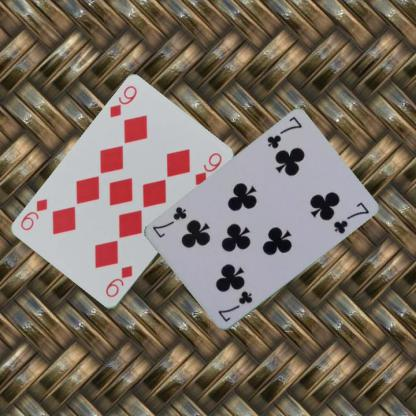7c: (215, 287, 254, 324), (264, 114, 303, 150)
9d: (107, 83, 139, 120), (103, 263, 134, 299)
